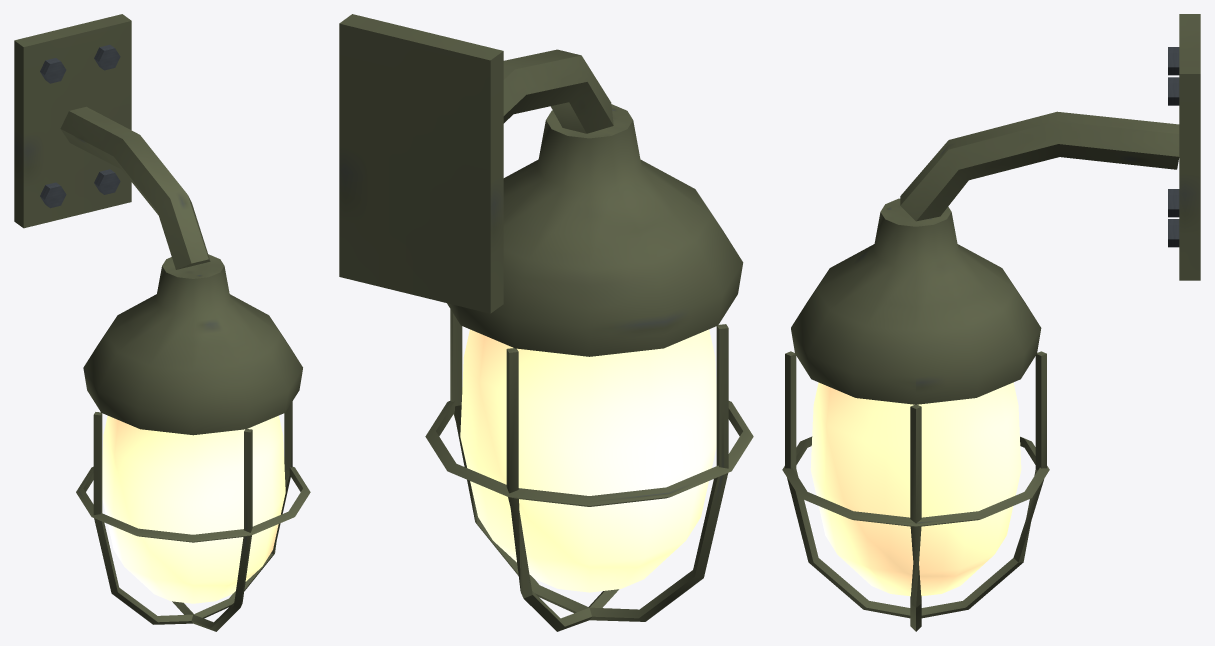
Rendered from lamp_cage.fbx.
3 views of the same model, side by side, from view 1: azimuth 30°, elevation 25°; view 2: azimuth 150°, elevation 25°; view 3: azimuth 270°, elevation 25° (orthographic). The views are drawn at different scales.
Visible parts, largest first — view 1: lamp_cage, lamp_cage_lens; view 2: lamp_cage, lamp_cage_lens; view 3: lamp_cage, lamp_cage_lens.
Part boxes in pixels (x1,y1,x2,y2): lamp_cage: (14,14,310,631); lamp_cage_lens: (102,415,285,603); lamp_cage: (339,14,753,631); lamp_cage_lens: (460,329,716,592); lamp_cage: (782,14,1200,631); lamp_cage_lens: (810,382,1021,596).
Bounding box in the file's own units: 0.188 × 0.446 × 0.294.
1 material, 1 textured.
